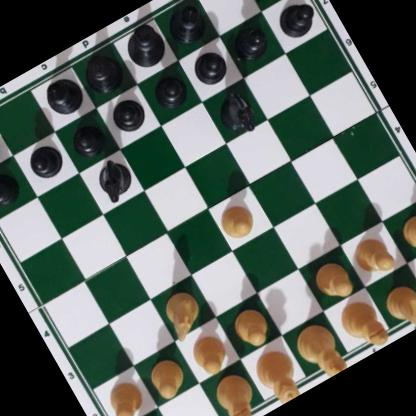black-bishop: (158, 0, 212, 49), (36, 70, 87, 120)
black-king: (114, 17, 172, 76)
black-knight: (211, 85, 261, 140), (90, 154, 137, 203)
black-pawn: (186, 42, 232, 90), (271, 0, 321, 43), (104, 91, 149, 138), (22, 138, 67, 184), (228, 19, 272, 65), (146, 67, 190, 113), (65, 117, 109, 162), (0, 166, 23, 210)
black-queen: (75, 44, 129, 99)
black-rook: (0, 114, 4, 174), (240, 0, 299, 1)
white-bishop: (334, 294, 393, 358), (208, 368, 265, 416)
white-king: (291, 320, 350, 385)
white-knight: (154, 284, 208, 341), (378, 277, 416, 335)
white-pawn: (346, 228, 398, 282), (307, 254, 358, 308), (183, 329, 232, 379), (142, 353, 190, 403), (226, 302, 273, 352), (214, 198, 260, 245), (99, 374, 150, 416), (396, 205, 416, 255)
white-queen: (247, 343, 307, 410)
white-rook: (414, 240, 416, 311), (115, 416, 178, 416)
